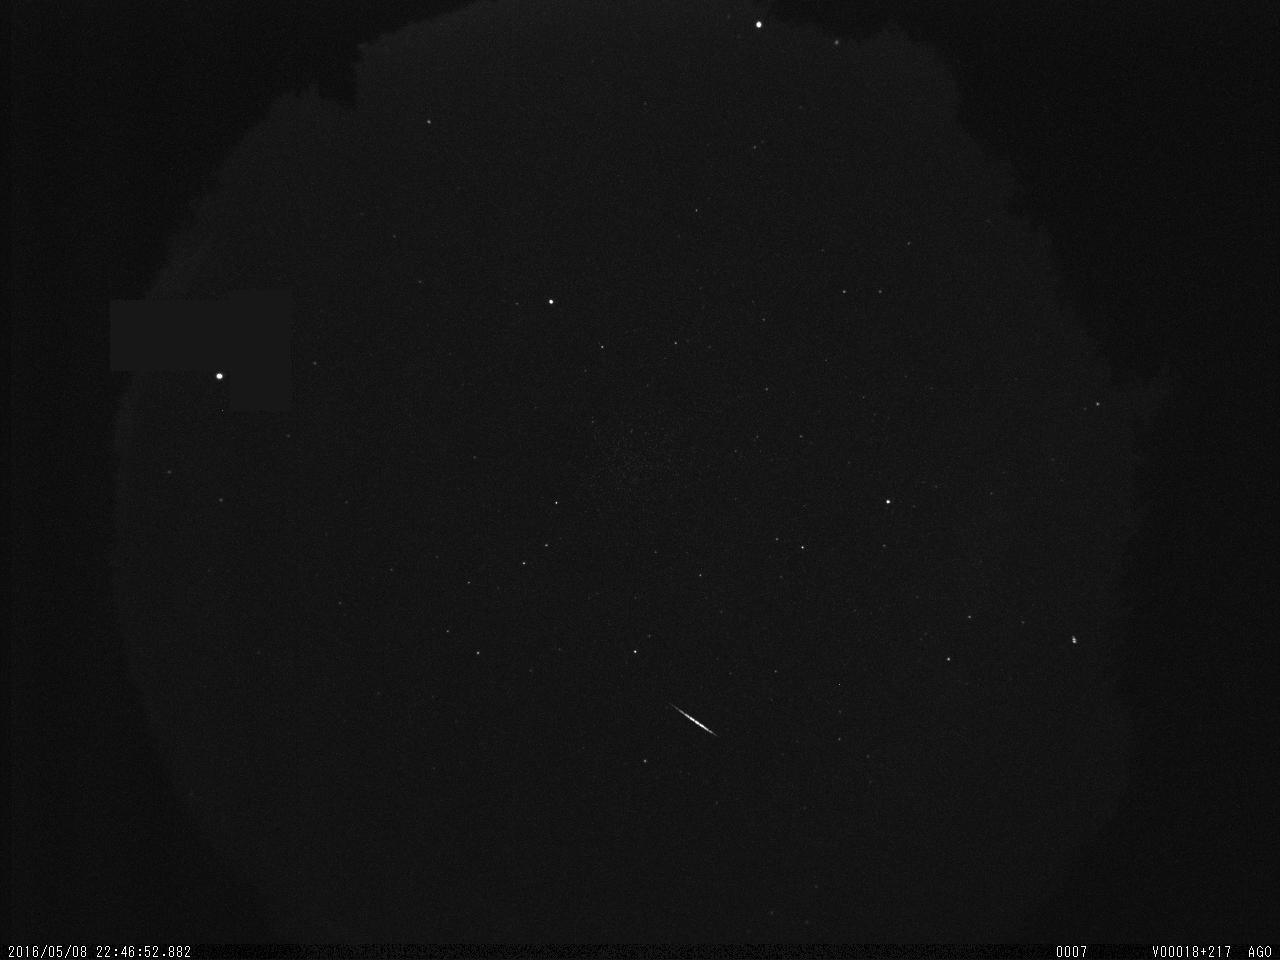Meteor: (665, 697, 727, 749)
